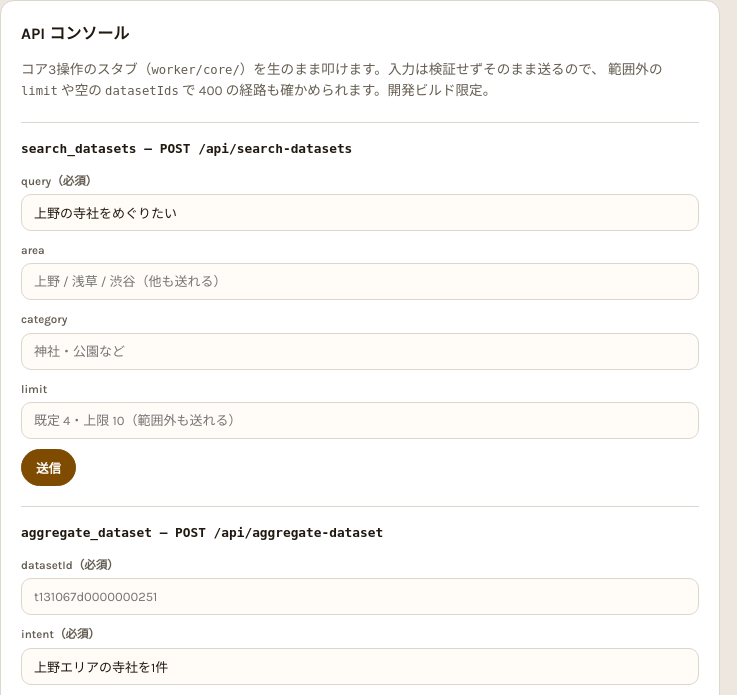
ApiConsole › fetch の失敗は「サーバーに接続できません」として alert 表示される
Click the button "送信" below "category". click: coordinates (48, 468)
box: [21,449,76,486]
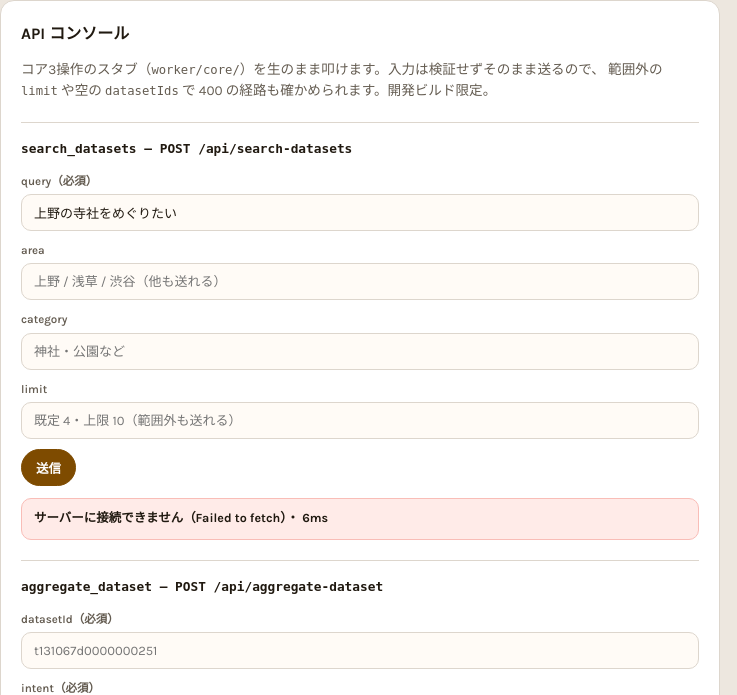
Check: the message shows "サーバーに接続できません", box [34,511,328,525]
